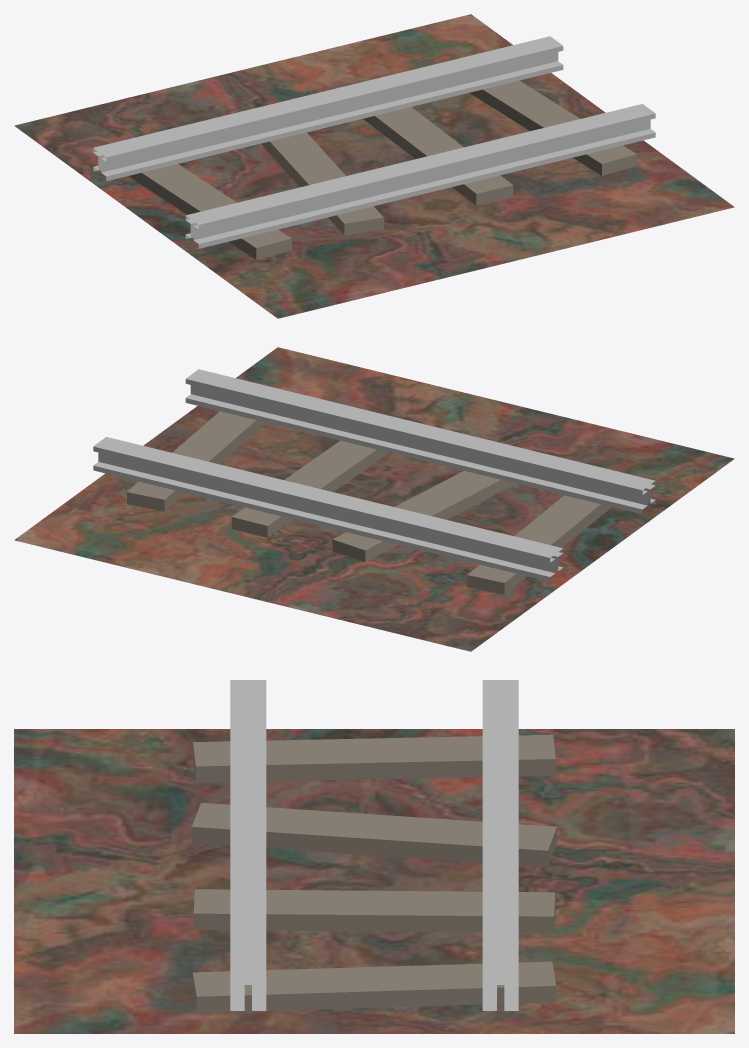
Rendered from cave_minetrack_straight1.glb.
3 renders of one model, top to bottom at view 1: azimuth 30°, elevation 25°; view 2: azimuth 150°, elevation 25°; view 3: azimuth 270°, elevation 25°, orthographic. The views are drawn at different scales.
Parts seen in each view (by area): view 1: TrackStraight1; view 2: TrackStraight1; view 3: TrackStraight1.
Part boxes in pixels (bbox=[...]): TrackStraight1: bbox=[14, 14, 734, 318]; TrackStraight1: bbox=[14, 347, 734, 651]; TrackStraight1: bbox=[14, 680, 734, 1033].
Size of the model in its own units: 2 by 0.15 by 2.
3 materials, 1 textured.
